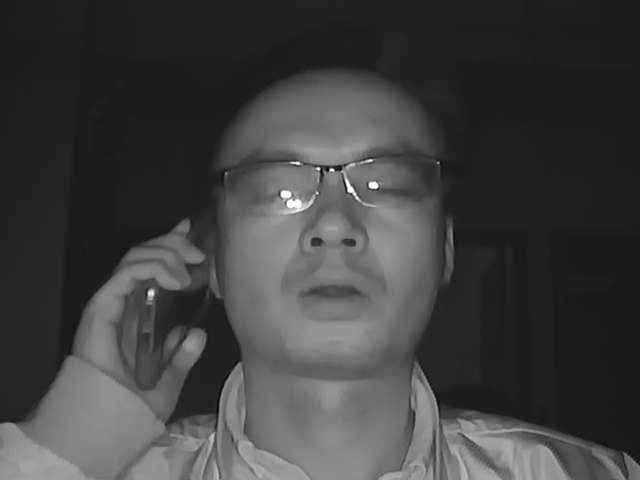hand: (71, 216, 209, 410)
